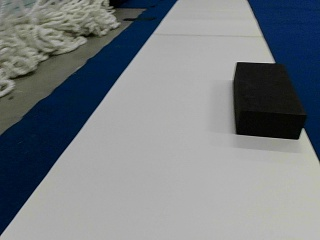block: (234, 62, 306, 140)
